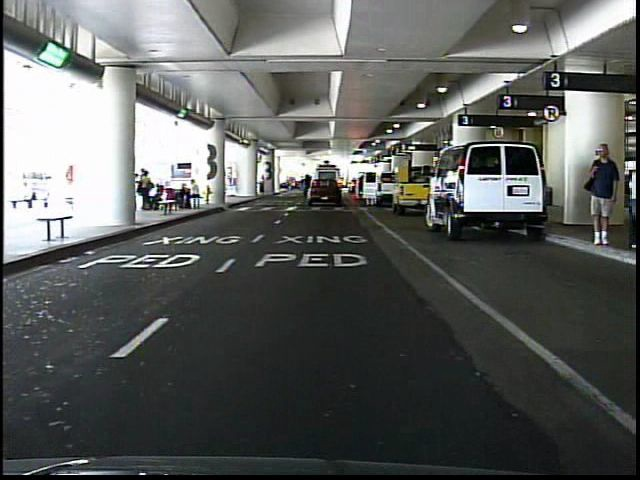person: (582, 141, 619, 249), (621, 153, 640, 250), (259, 171, 270, 196)
